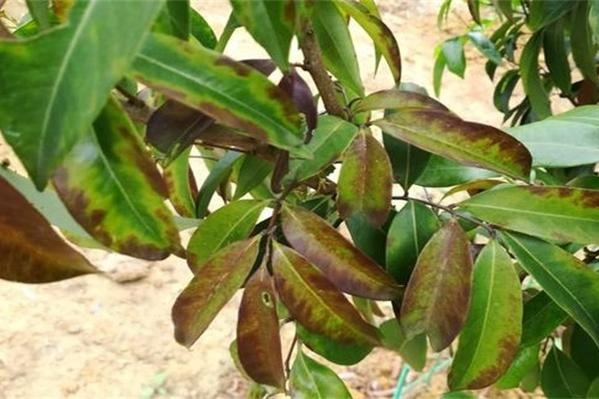Anthracnose: (197, 199, 378, 345), (396, 213, 533, 375), (372, 79, 554, 180), (178, 57, 341, 165), (1, 157, 103, 283), (107, 111, 192, 251)
